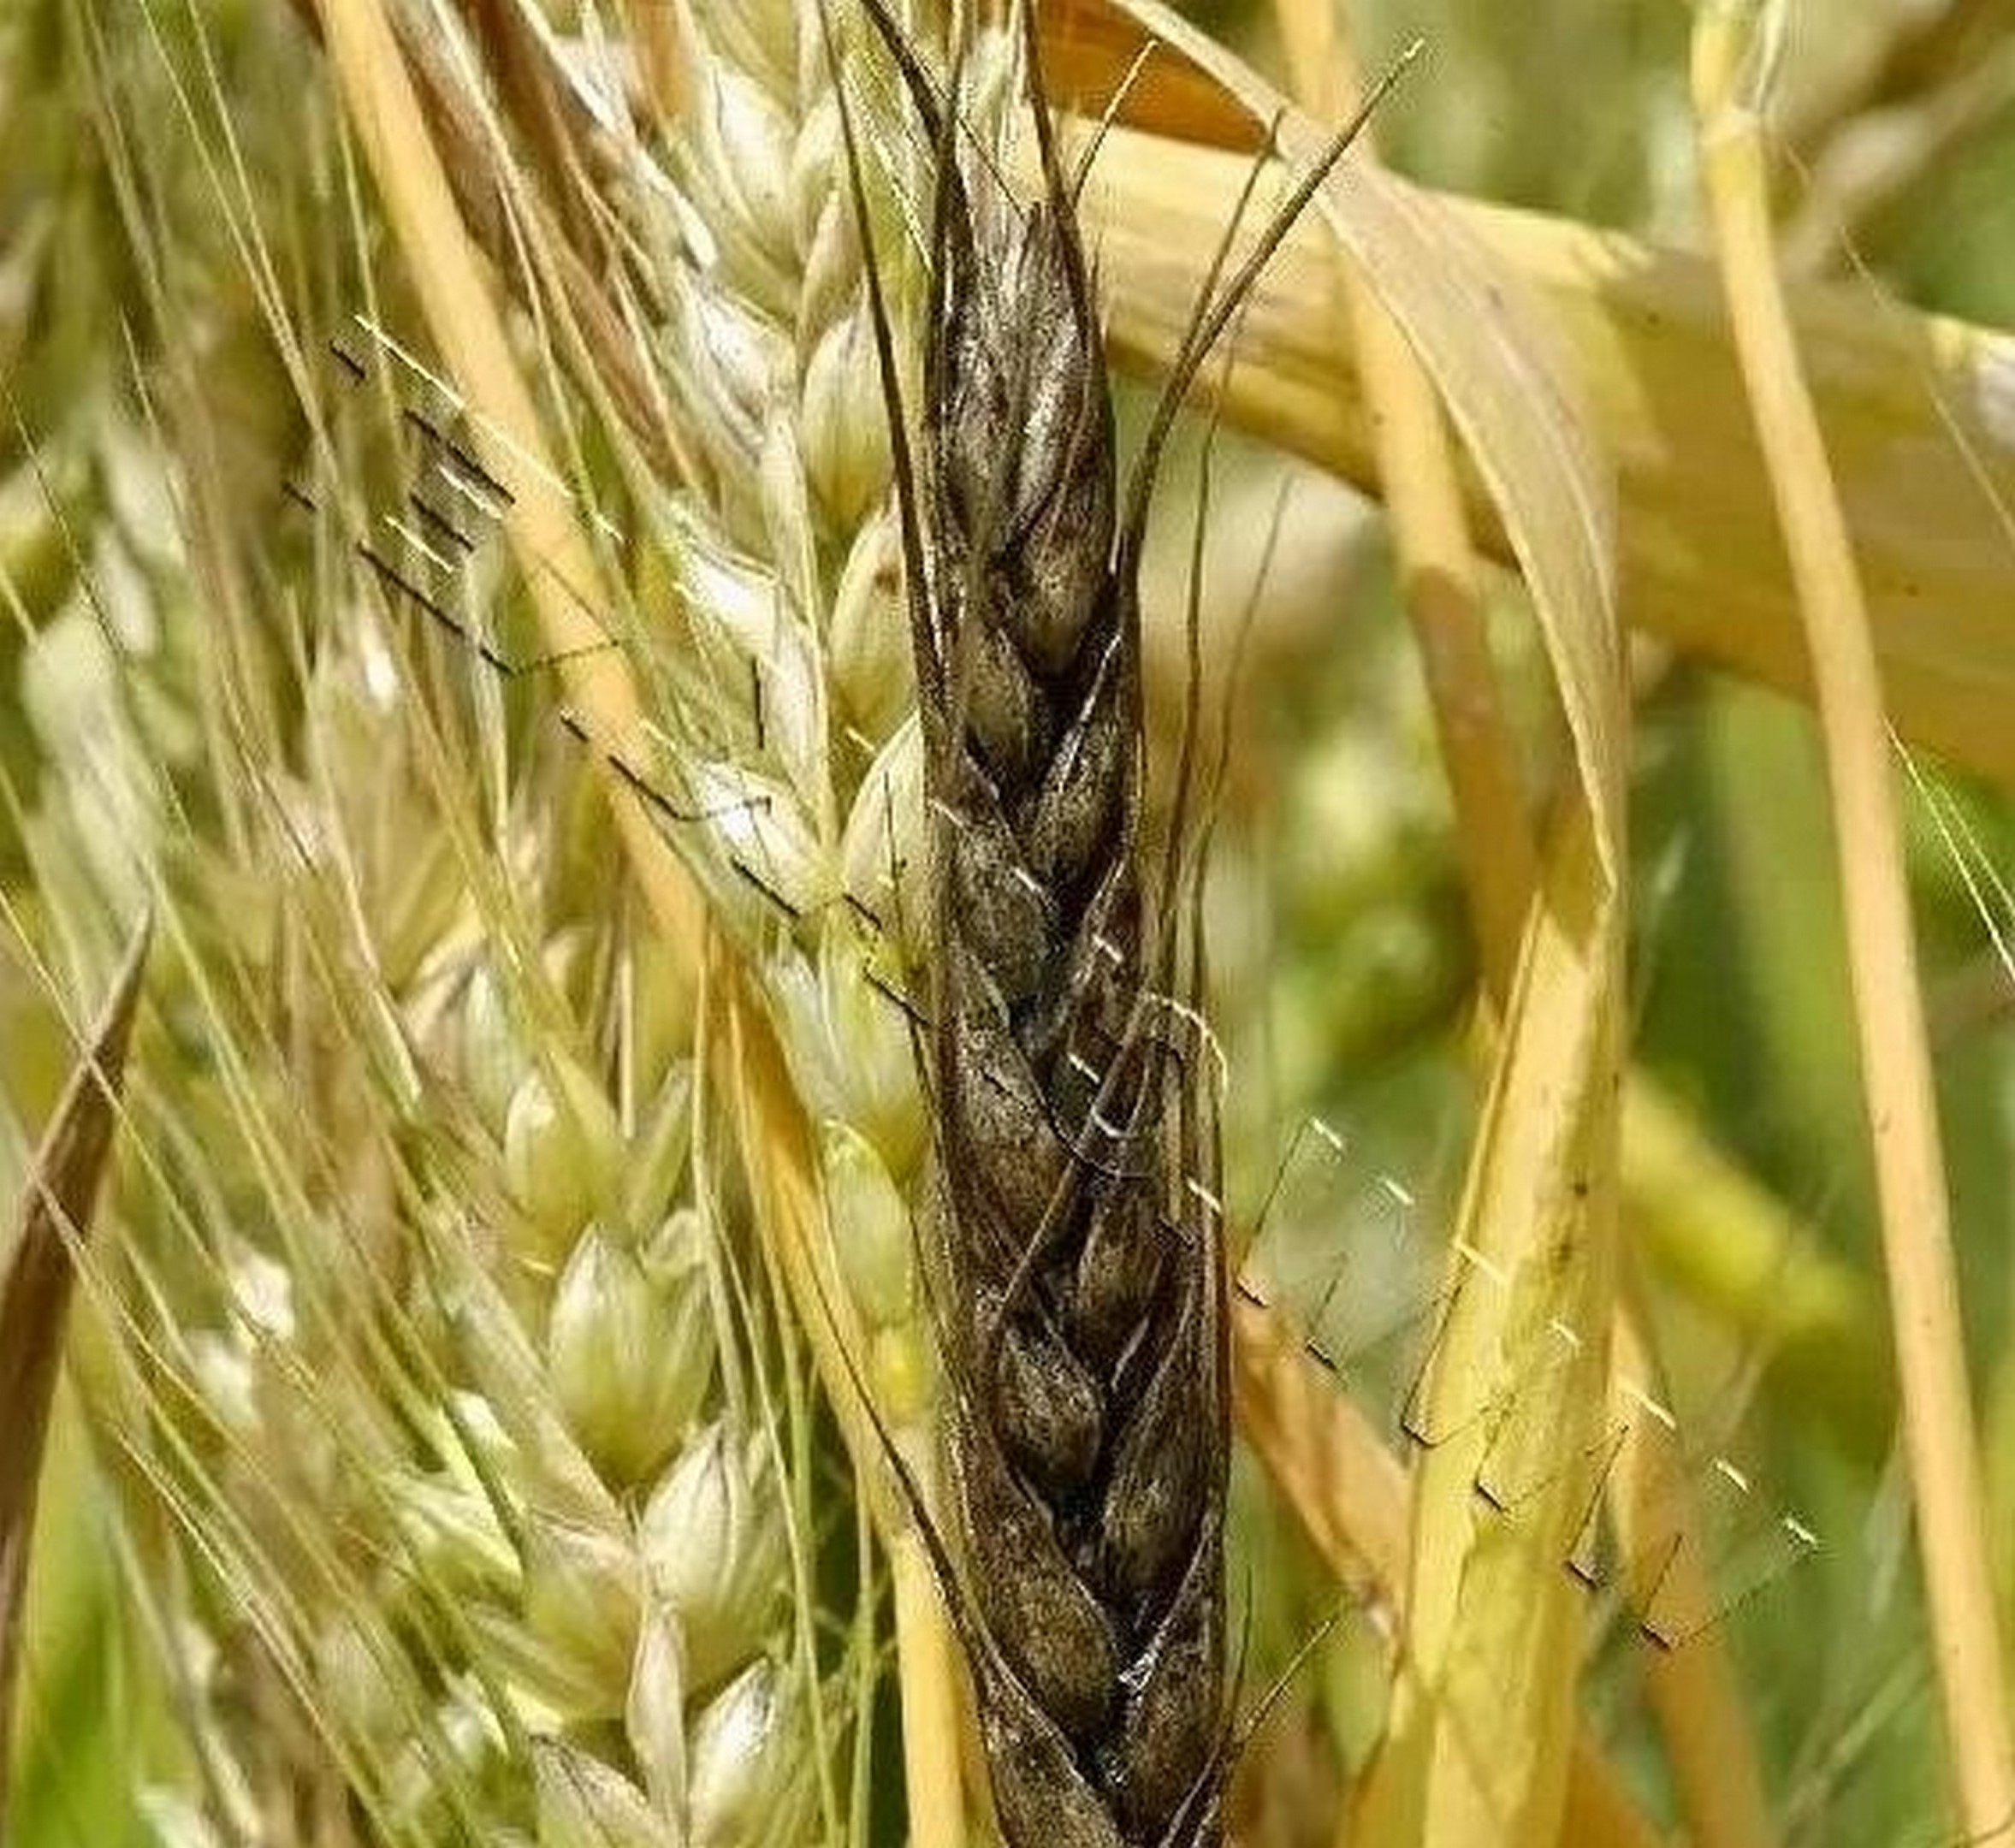Wheat Loose Smut: (862, 197, 1290, 1762)
